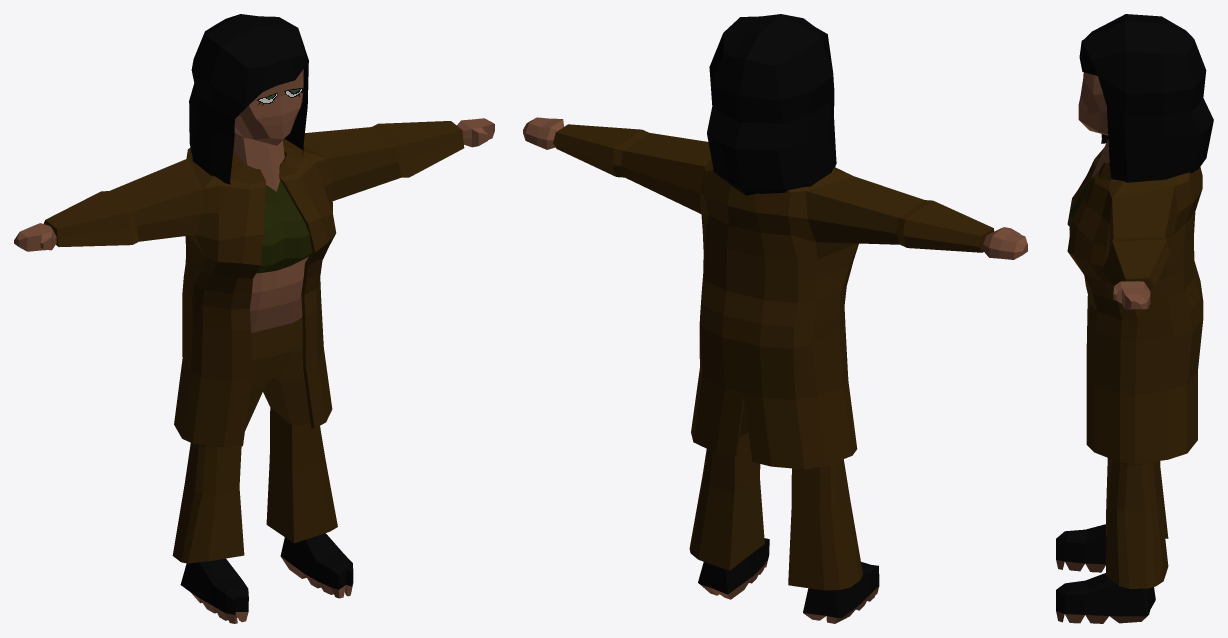
The model's file is GravCharacter.fbx.
3 renders of one model, left to right at view 1: azimuth 30°, elevation 25°; view 2: azimuth 150°, elevation 25°; view 3: azimuth 270°, elevation 25°, orthographic. The views are drawn at different scales.
Visible parts, largest first — view 1: Cube; view 2: Cube; view 3: Cube.
Part boxes in pixels (bbox=[...]): Cube: bbox=[14, 14, 494, 623]; Cube: bbox=[523, 14, 1027, 623]; Cube: bbox=[1056, 14, 1213, 623].
Bounding box in the file's own units: 10.37 × 2.92 × 11.67.
